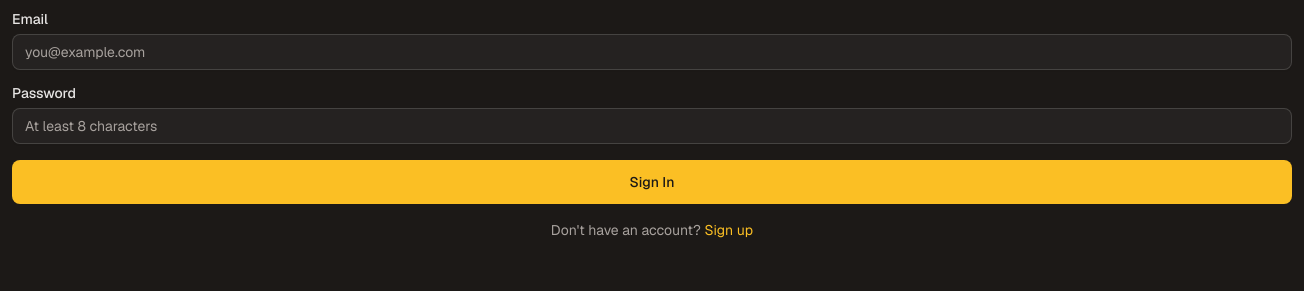
EmailPasswordForm › displays server error on sign-in failure
In the field labelled "Email": (652, 52) [12,34,1292,70], type "test@example.com"
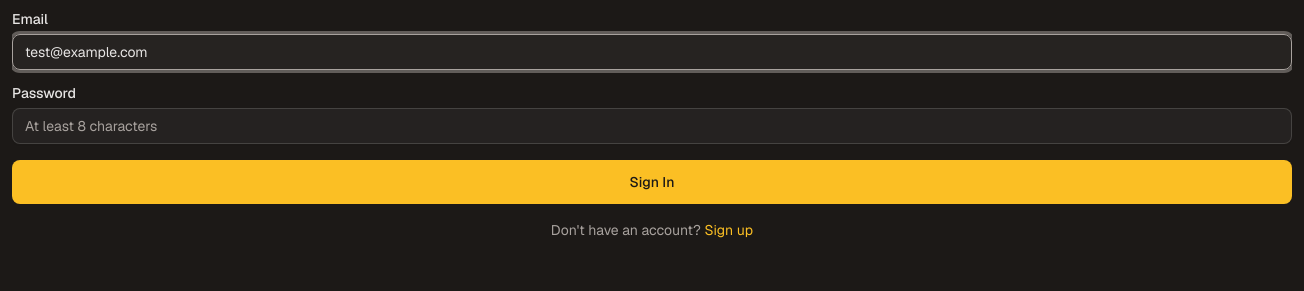
In the password field labelled "Password": (652, 126) [12,108,1292,144], type "password123"
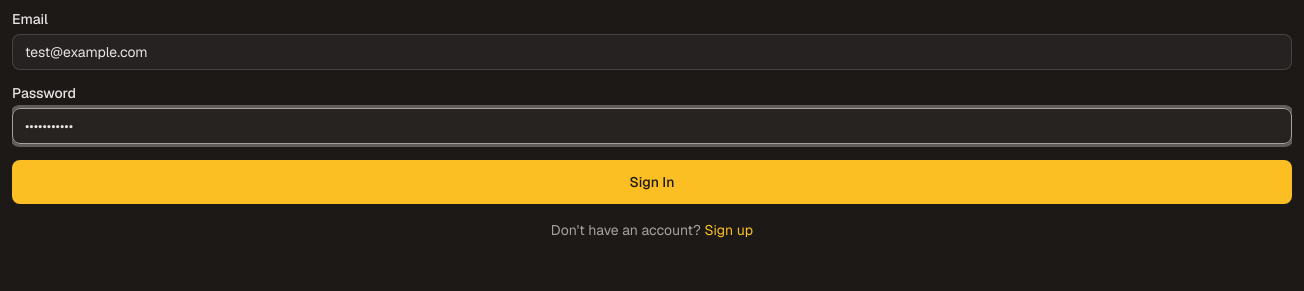
Click the button "Sign In": (652, 182) [12,160,1292,204]
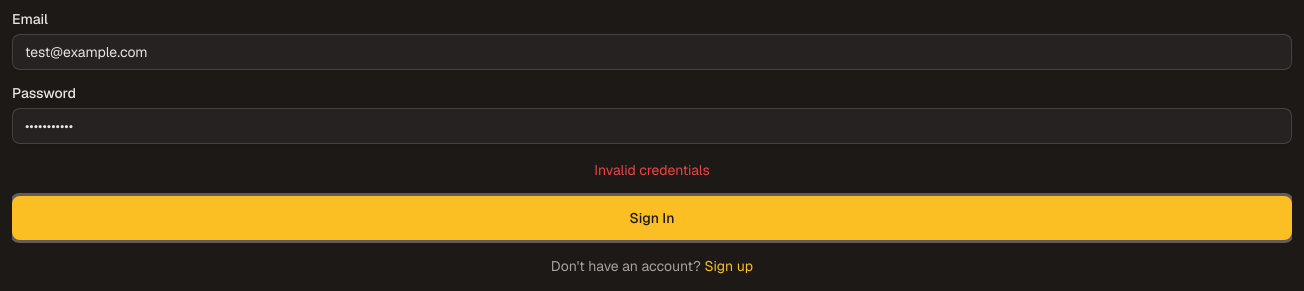
Result: the message reads "Invalid credentials" at [594,161,710,179]
